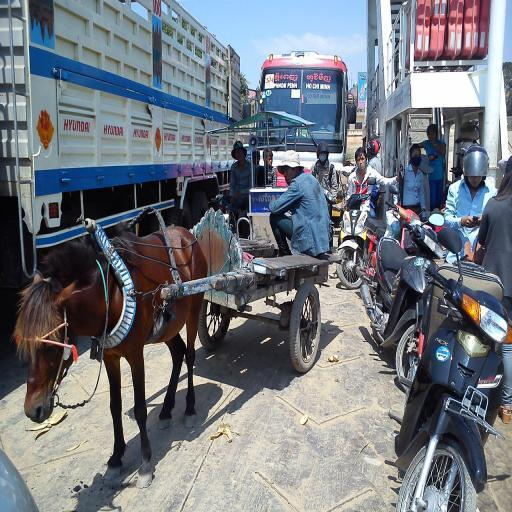horse: (11, 224, 209, 490)
